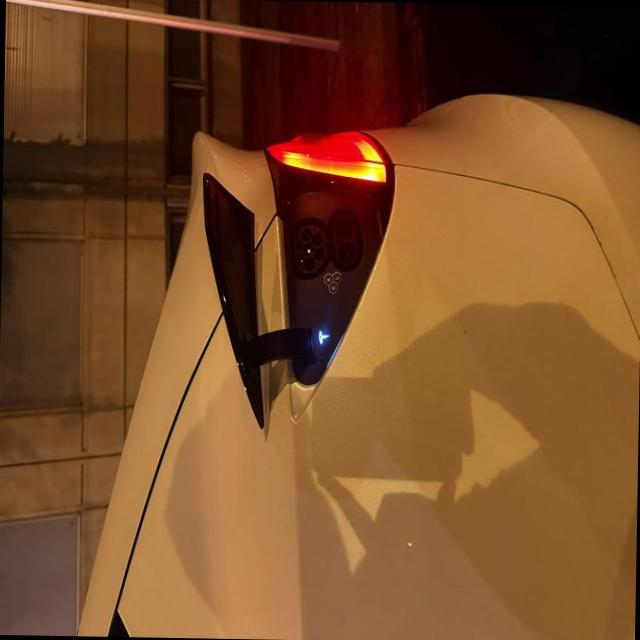inlet: (294, 224, 327, 272)
inlet-above-left: (296, 253, 304, 263)
inlet-above-right: (295, 238, 303, 248)
inlet-below-left: (313, 245, 324, 260)
inlet-below-right: (311, 231, 323, 244)
inlet-center: (302, 241, 314, 255)
inlet-center-left: (304, 255, 315, 270)
inlet-center-right: (301, 226, 312, 240)
